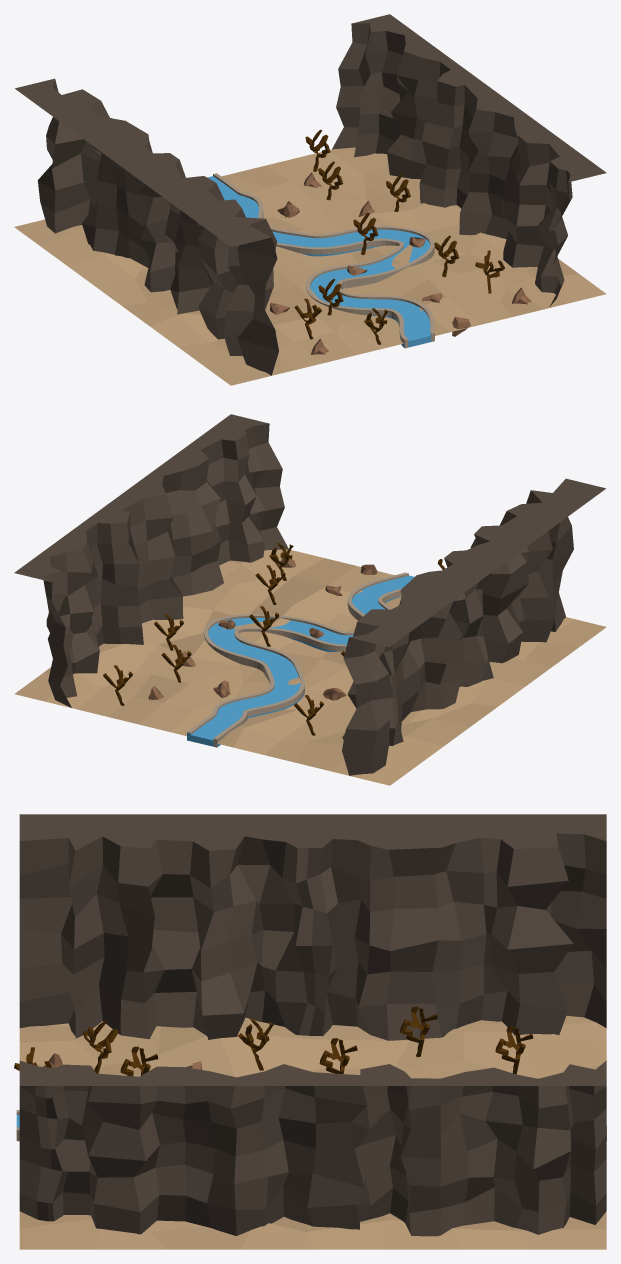
The model's file is Level (0).fbx.
3 views of the same model, one above another, from view 1: azimuth 30°, elevation 25°; view 2: azimuth 150°, elevation 25°; view 3: azimuth 270°, elevation 25° (orthographic). The views are drawn at different scales.
Visible parts, largest first — view 1: Plane, Plane.001, Plane.002; view 2: Plane, Plane.001, Plane.002; view 3: Plane, Plane.001, Plane.013, Plane.012, Plane.004, Plane.010, Plane.007.
Part boxes in pixels (left/top/right/bottom): Plane: left=15, top=14, right=606, bottom=375; Plane.001: left=14, top=147, right=606, bottom=385; Plane.002: left=207, top=173, right=434, bottom=348; Plane: left=14, top=414, right=605, bottom=775; Plane.001: left=14, top=549, right=606, bottom=785; Plane.002: left=187, top=572, right=414, bottom=747; Plane: left=19, top=814, right=606, bottom=1236; Plane.001: left=19, top=1015, right=606, bottom=1249; Plane.013: left=400, top=1006, right=437, bottom=1057; Plane.012: left=495, top=1026, right=533, bottom=1074; Plane.004: left=83, top=1020, right=118, bottom=1073; Plane.010: left=319, top=1038, right=357, bottom=1073; Plane.007: left=238, top=1018, right=273, bottom=1070.
Size of the model in its own units: 10006 by 3775 by 10102.
